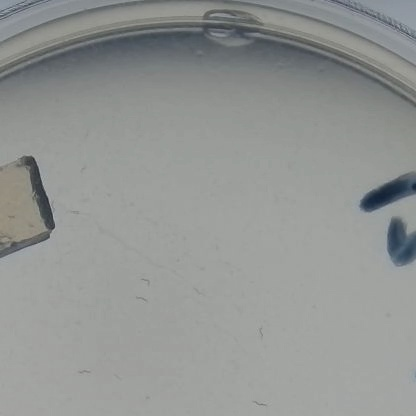worm: (133, 273, 160, 290), (248, 392, 272, 411), (129, 290, 152, 307), (63, 203, 87, 218), (73, 362, 94, 379), (186, 284, 211, 298), (253, 323, 267, 343), (112, 371, 126, 384), (77, 163, 92, 174)
